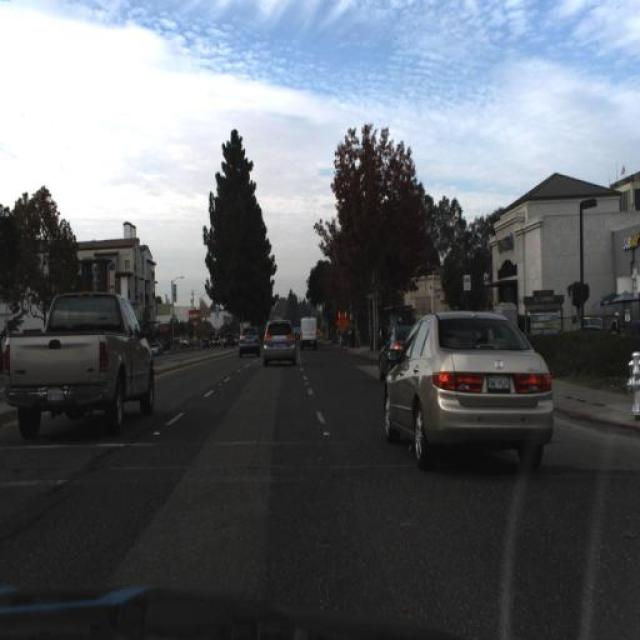car: (376, 304, 560, 477), (1, 279, 160, 452), (257, 310, 301, 371), (296, 308, 325, 357), (235, 320, 261, 360), (298, 312, 322, 347)
